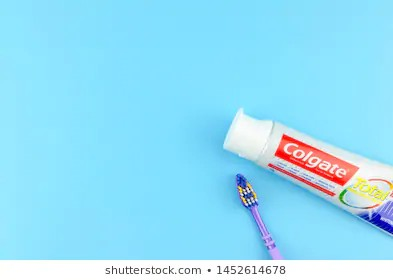colgate-total-150gm: (222, 101, 393, 235)
toothbrush: (226, 171, 286, 259)
